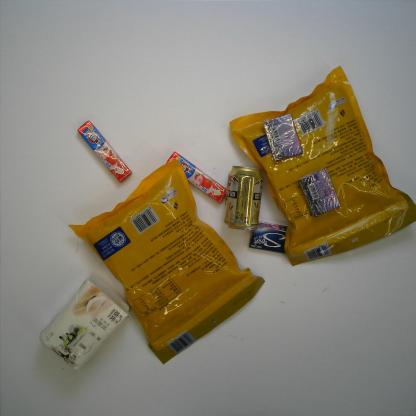Alcohol: (222, 165, 264, 231)
Candy: (78, 119, 132, 184), (166, 151, 228, 205)
Dried Food: (66, 158, 266, 366), (228, 64, 416, 267)
Gum: (298, 168, 341, 218), (263, 113, 303, 161), (248, 220, 288, 254)
Tissue: (38, 271, 132, 372)
